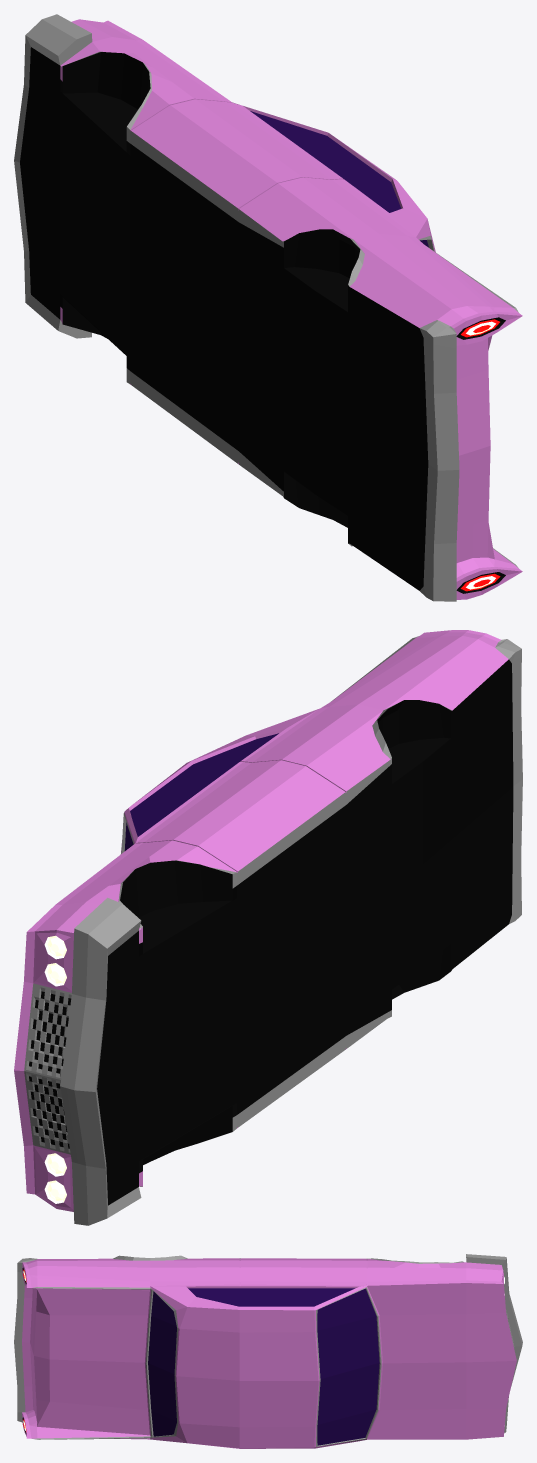
Rendered from body.fbx.
The picture shows the model from 3 angles, top to bottom: view 1: azimuth 30°, elevation 25°; view 2: azimuth 150°, elevation 25°; view 3: azimuth 270°, elevation 25°; orthographic projection. The views are drawn at different scales.
Parts seen in each view (by area): view 1: Cube; view 2: Cube; view 3: Cube.
Boxes of the visible parts, <box> form: Cube: <box>14,14,522,601</box>; Cube: <box>14,630,522,1225</box>; Cube: <box>14,1254,522,1448</box>.
Bounding box in the file's own units: 964 × 374 × 212.
